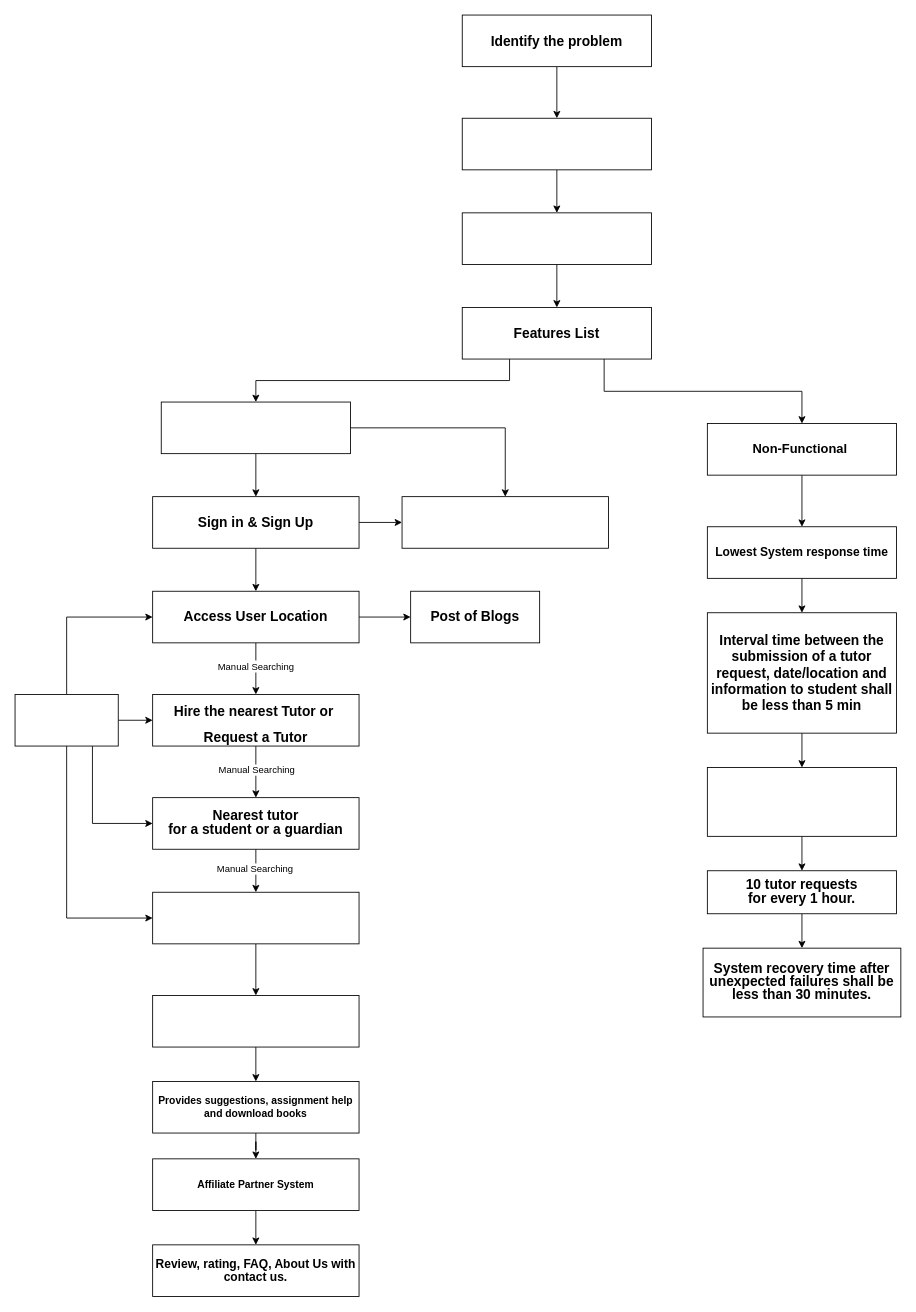
This 916x1312 diagram has some shape labels left out. The shapes that lost their labels are listed below. From the top down, each one's centre as x and y in pixels, then its label:
(556,143): Reviewing Literature and Existing Products
(556,238): Benchmark of Products
(255,427): Functional
(504,522): Real time communication
(66,720): Auto Suggest
(801,801): Interval time between the determined and the actual confirmation shall be 8min
(255,917): Search student for a tuiton
(255,1021): Notification & Payment System
